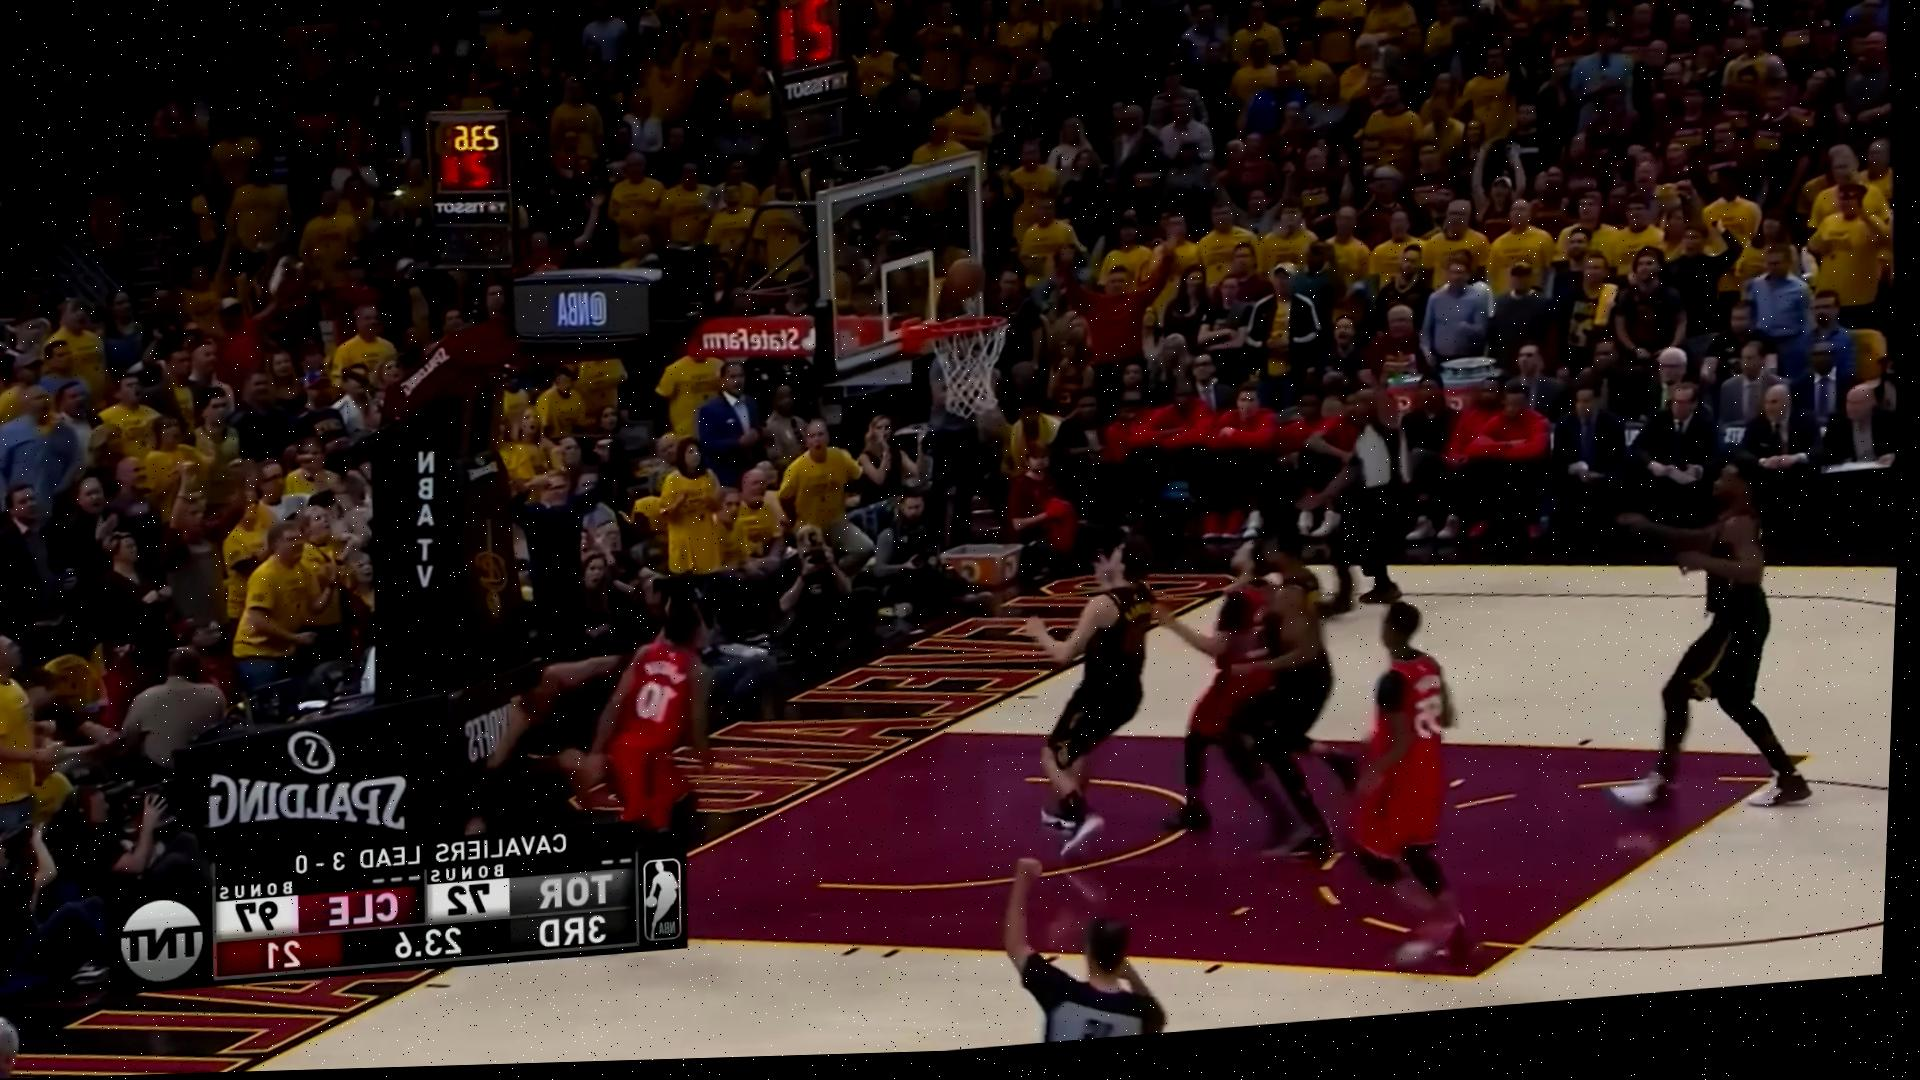no_foul: (977, 481, 1393, 853)
